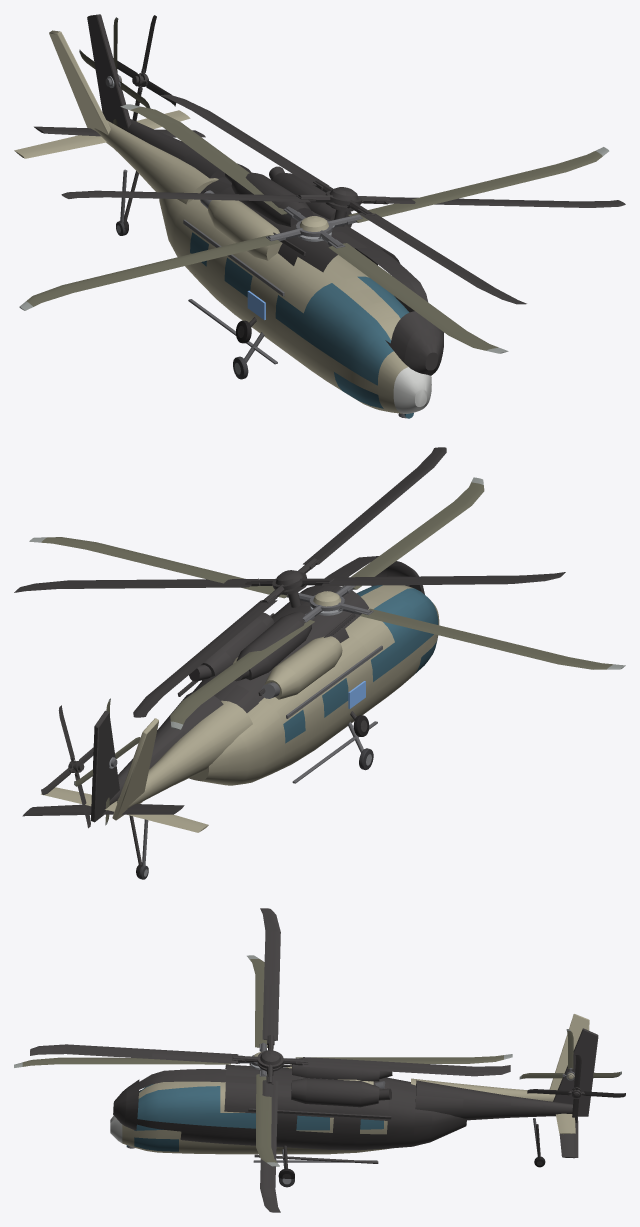
Rendered from helicopter__uh_60j_rescue.glb.
The picture shows the model from 3 angles, top to bottom: view 1: azimuth 30°, elevation 25°; view 2: azimuth 150°, elevation 25°; view 3: azimuth 270°, elevation 25°; orthographic projection. The views are drawn at different scales.
Visible parts, largest first — view 1: Fuselage_Mesh, Wreck, Rotor_Main_Mesh, Engines_Mesh, Landing_Gear_Mesh, Rotor_Tail_Mesh; view 2: Fuselage_Mesh, Wreck, Rotor_Main_Mesh, Engines_Mesh, Landing_Gear_Mesh; view 3: Wreck, Fuselage_Mesh, Rotor_Main_Mesh, Rotor_Tail_Mesh.
Boxes of the visible parts, x1=… form: Fuselage_Mesh: x1=14, y1=30, x2=431, y2=418; Wreck: x1=34, y1=14, x2=625, y2=375; Rotor_Main_Mesh: x1=19, y1=104, x2=609, y2=353; Engines_Mesh: x1=200, y1=190, x2=282, y2=260; Landing_Gear_Mesh: x1=116, y1=169, x2=264, y2=379; Rotor_Tail_Mesh: x1=79, y1=17, x2=150, y2=125; Fuselage_Mesh: x1=41, y1=585, x2=439, y2=832; Wreck: x1=14, y1=447, x2=565, y2=877; Rotor_Main_Mesh: x1=29, y1=477, x2=625, y2=729; Engines_Mesh: x1=233, y1=636, x2=342, y2=699; Landing_Gear_Mesh: x1=138, y1=721, x2=373, y2=879; Wreck: x1=30, y1=908, x2=625, y2=1212; Fuselage_Mesh: x1=110, y1=1014, x2=589, y2=1162; Rotor_Main_Mesh: x1=14, y1=955, x2=512, y2=1166; Rotor_Tail_Mesh: x1=519, y1=1029, x2=621, y2=1080.
Size of what is drawn, in the model's own units: 16.77 by 6.22 by 20.08.
